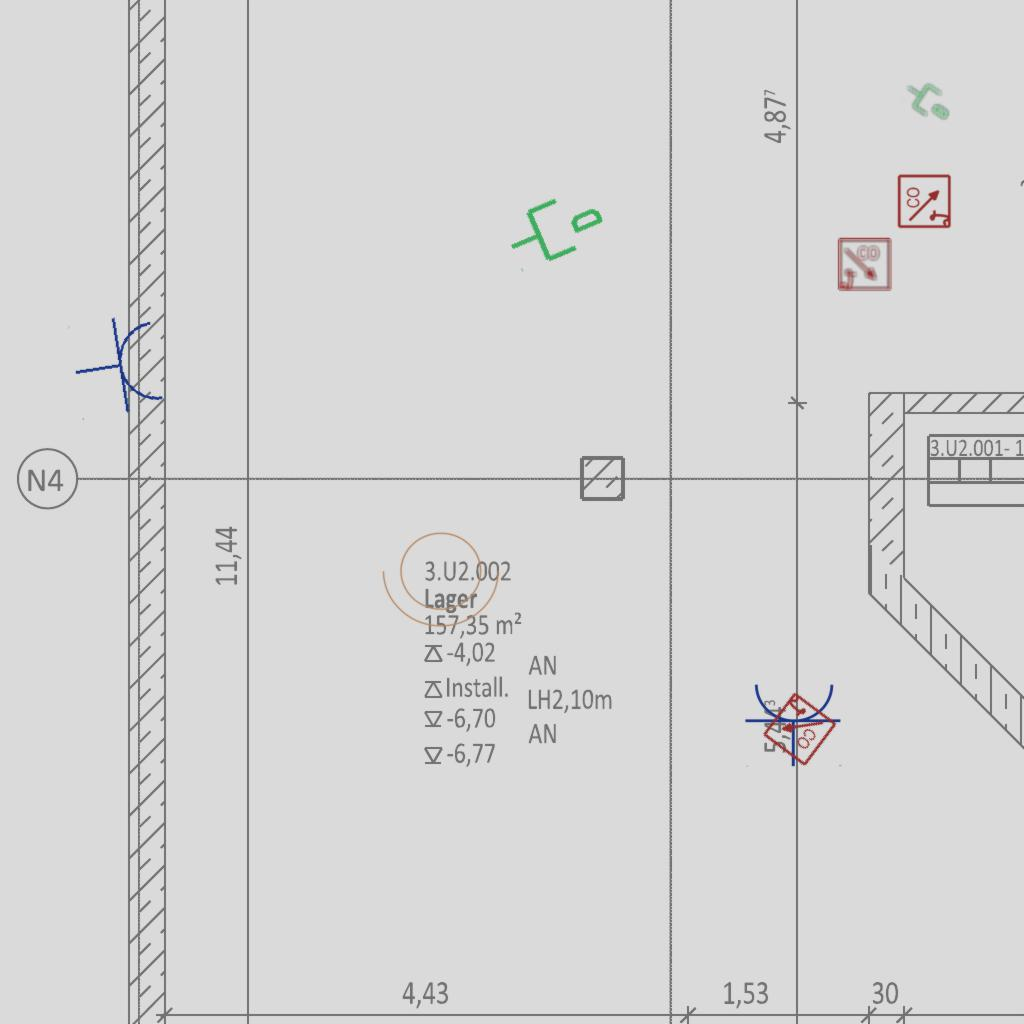Datenanschluss_einfach: (494, 175, 615, 279), (898, 71, 960, 129)
ROA_Rauchmelder_optisch_mit_Signalgeber_(Sockelsirene): (759, 689, 839, 769), (897, 173, 953, 229), (837, 237, 893, 293)
Scheinwerfer_fuer_Alarmbeleuchtung: (378, 520, 510, 632)
Schukosteckdose_einfach: (67, 310, 169, 423), (744, 680, 844, 767)
